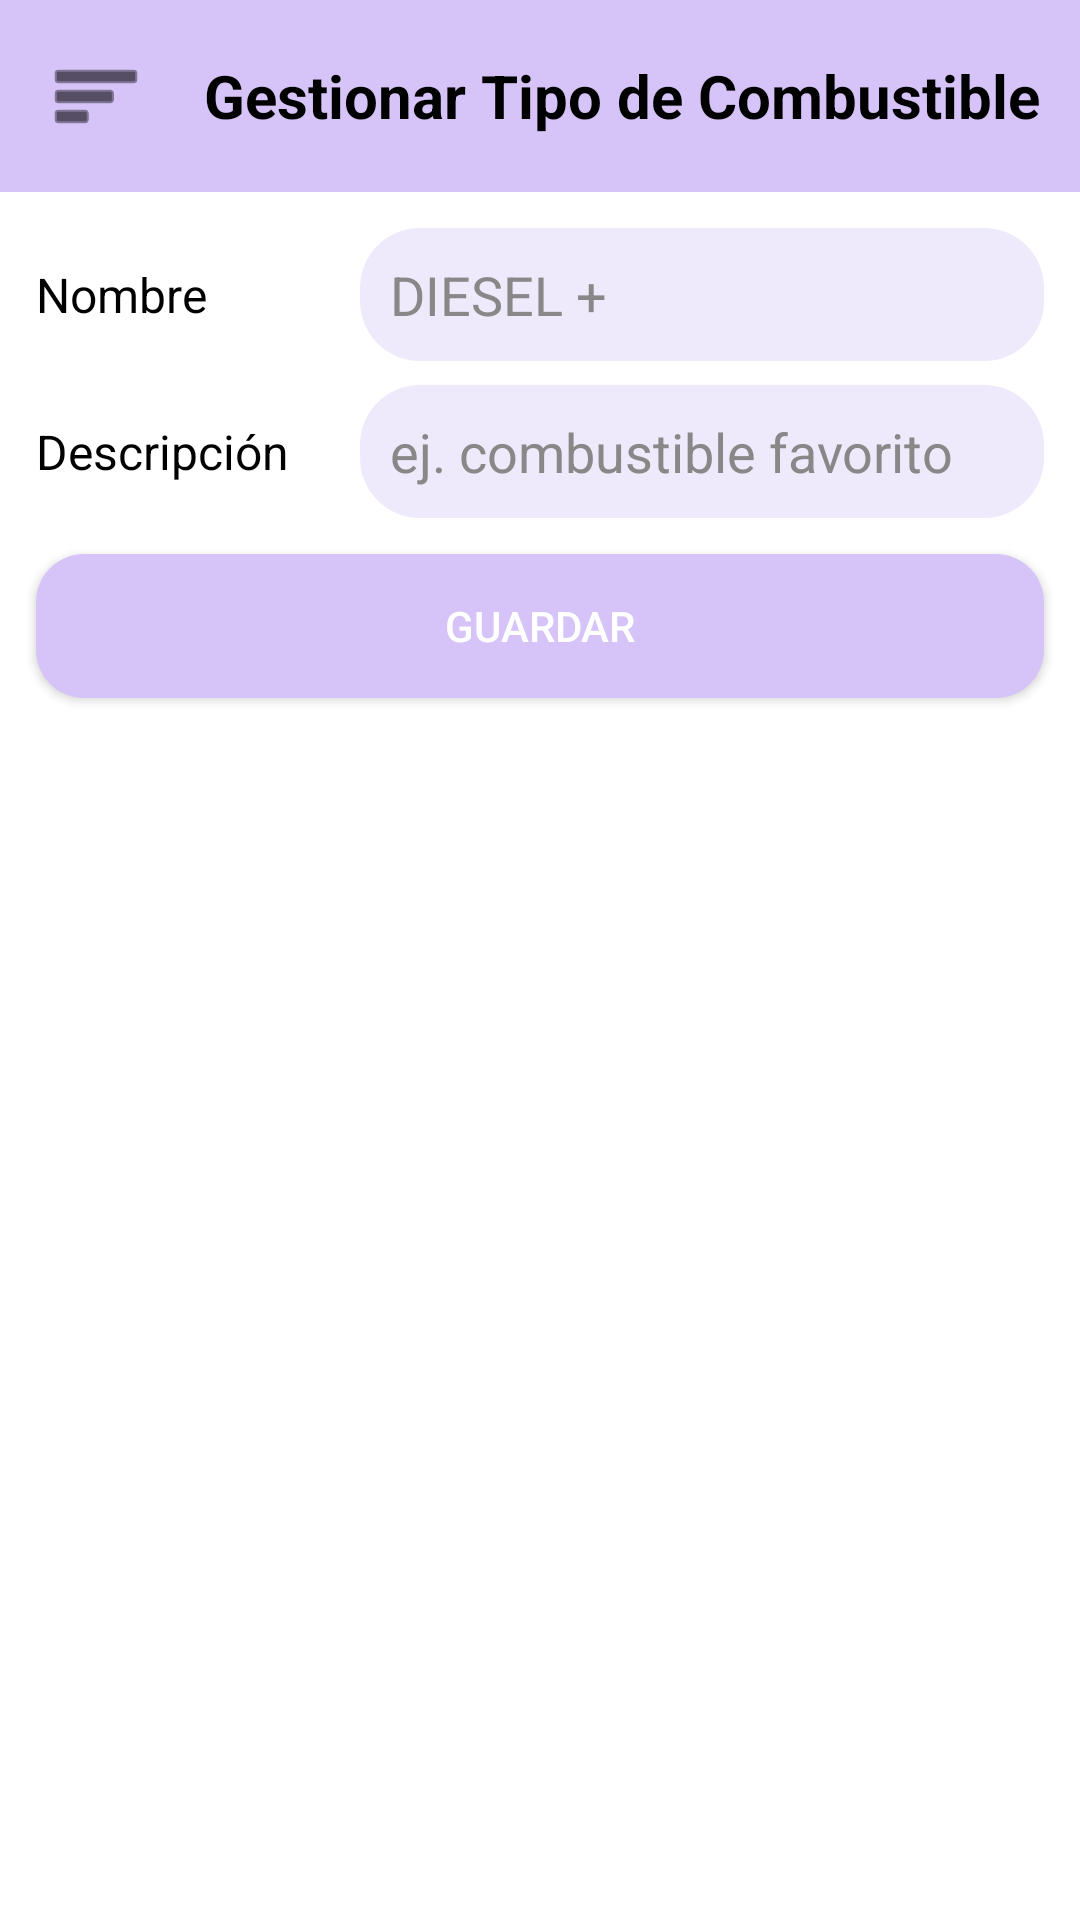

Where to tap for icons on this 1080w x 1920h app screen, as point (x, y):
Abrir menú: point (96, 96)
